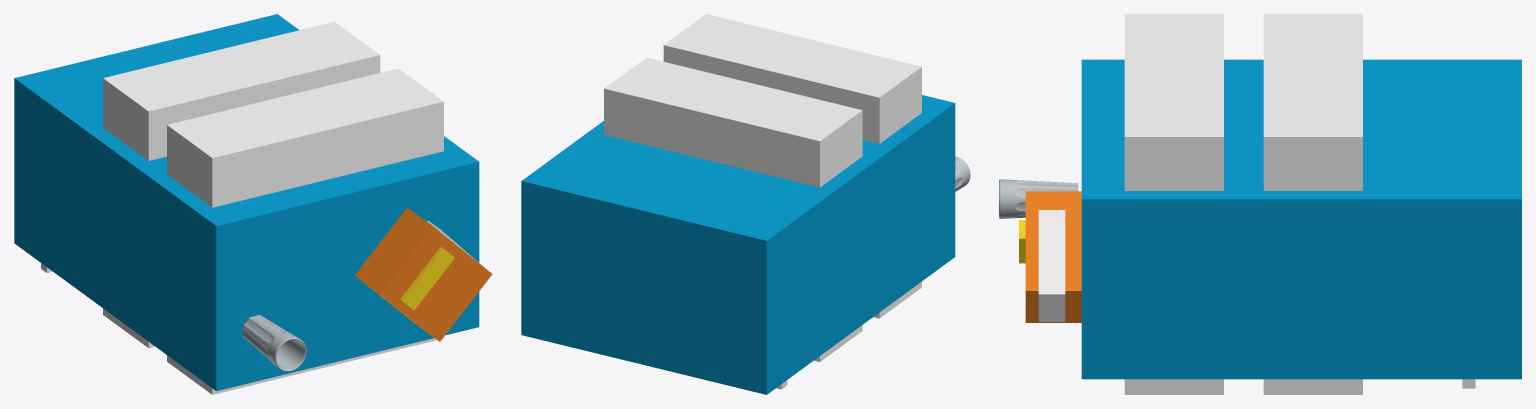
The model's file is tinker.obj.
The picture shows the model from 3 angles, left to right: view 1: azimuth 30°, elevation 25°; view 2: azimuth 150°, elevation 25°; view 3: azimuth 270°, elevation 25°; orthographic projection. The views are drawn at different scales.
Visible parts, largest first — view 1: group_0_40919, group_0_16448250, group_0_16089887, group_0_12568524, group_0_16768282; view 2: group_0_40919, group_0_16448250, group_0_12568524; view 3: group_0_40919, group_0_16448250, group_0_16089887, group_0_12568524.
Boxes of the visible parts, left/top/right/bottom form: group_0_40919: left=14, top=14, right=479, bottom=391; group_0_16448250: left=41, top=21, right=484, bottom=394; group_0_16089887: left=355, top=207, right=492, bottom=341; group_0_12568524: left=242, top=314, right=306, bottom=371; group_0_16768282: left=400, top=247, right=454, bottom=310; group_0_40919: left=521, top=95, right=955, bottom=394; group_0_16448250: left=604, top=14, right=921, bottom=389; group_0_12568524: left=955, top=156, right=970, bottom=191; group_0_40919: left=1081, top=59, right=1521, bottom=379; group_0_16448250: left=1038, top=14, right=1475, bottom=394; group_0_16089887: left=1025, top=191, right=1081, bottom=322; group_0_12568524: left=999, top=179, right=1078, bottom=218.
Bounding box in the file's own units: 50 × 47 × 79.
